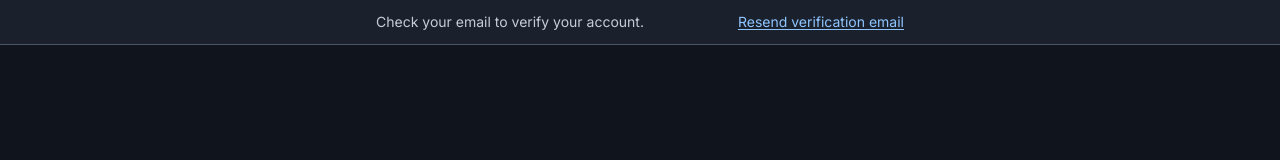
UnverifiedEmailBanner › resends a verification email
Check: the text "Check your email to verify your account." is shown, box [376,12,644,32]
Click the button "Resend verification email" at (821, 22), box [738,12,904,32]
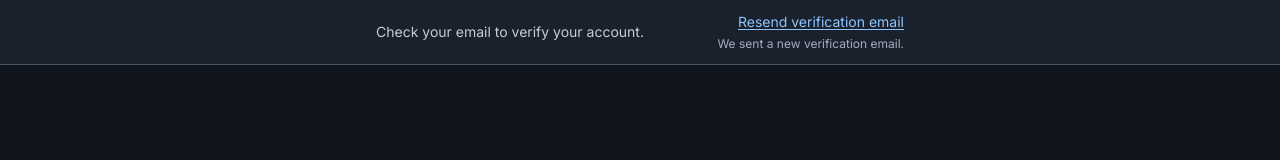
Check: the message reads "We sent a new verification email.", box [717,36,904,51]
